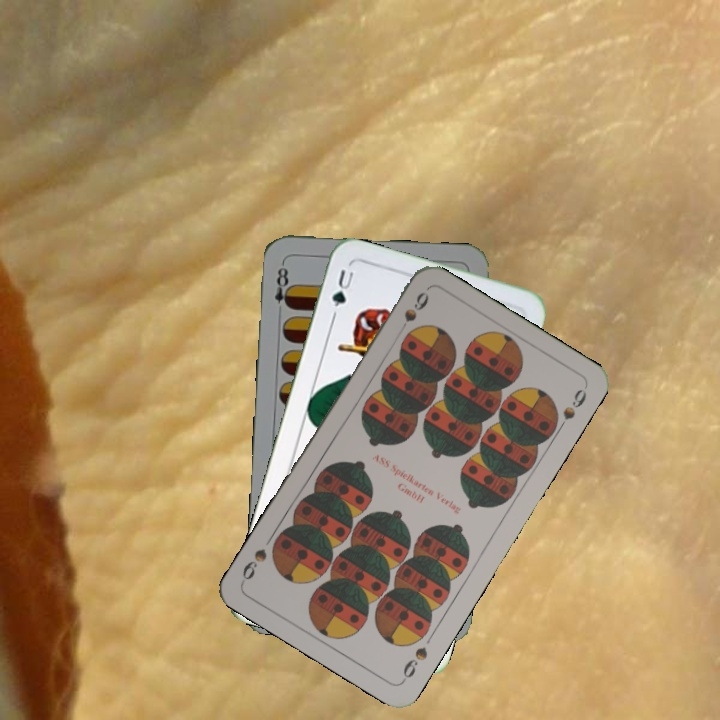E8: (271, 259, 294, 311)
GU: (328, 265, 357, 311)
S9: (395, 287, 432, 335), (398, 642, 431, 684)
